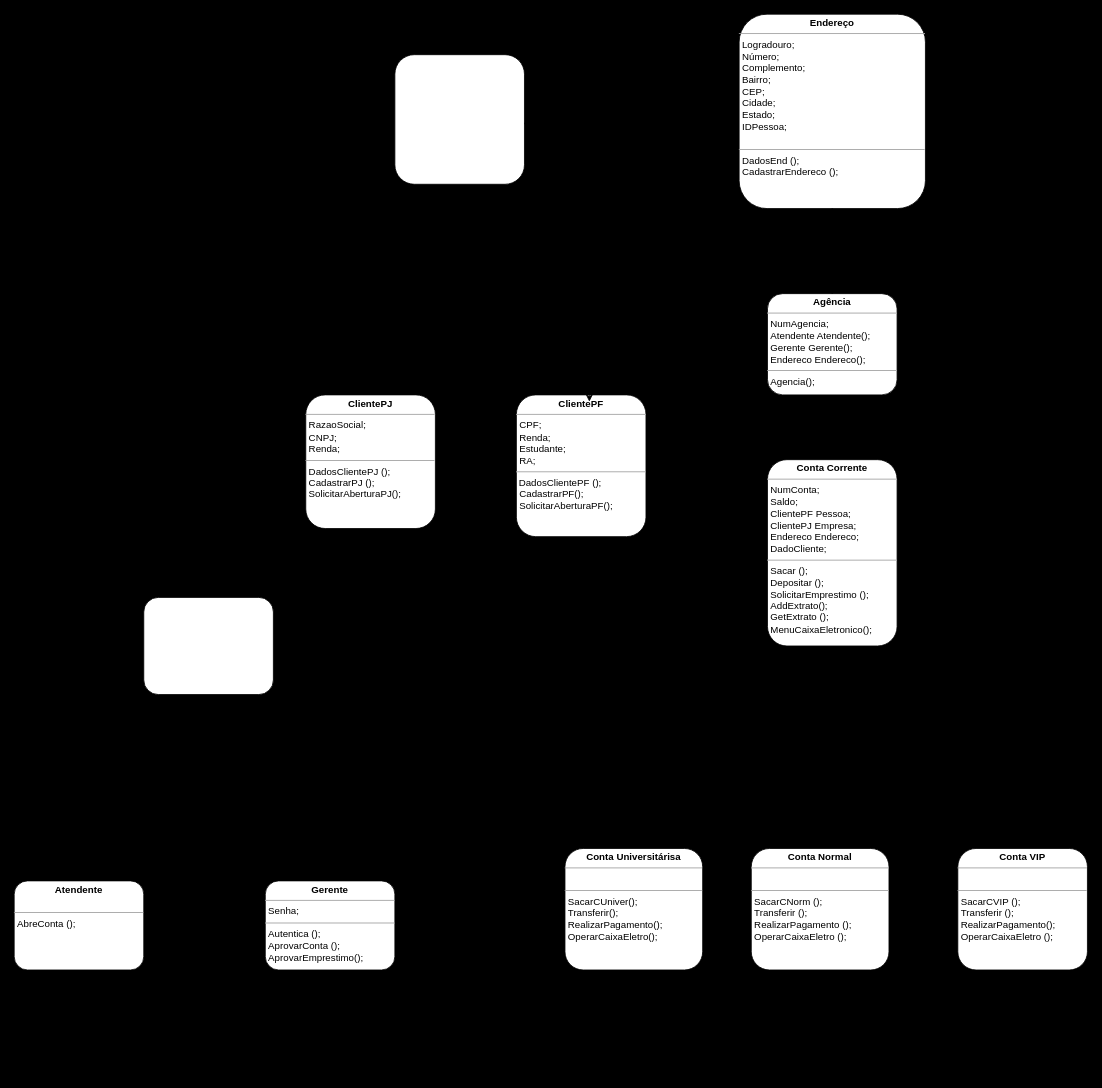
This 1102x1088 diagram has some shape labels left out. The shapes that lost their labels are listed below. From the top down, each one's centre as x and y in pixels, then its label:
point 459,119: Pessoa Nome; Telefone; Data; IDPessoa; Agencia; GetID (); SaveID ();
point 208,646: Funcionário Cargo;
